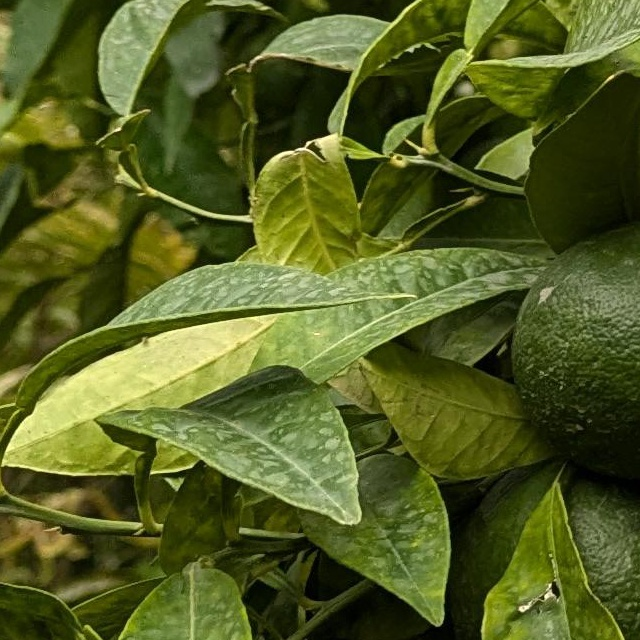orange: (514, 211, 640, 477), (458, 465, 640, 640), (331, 545, 640, 640)
